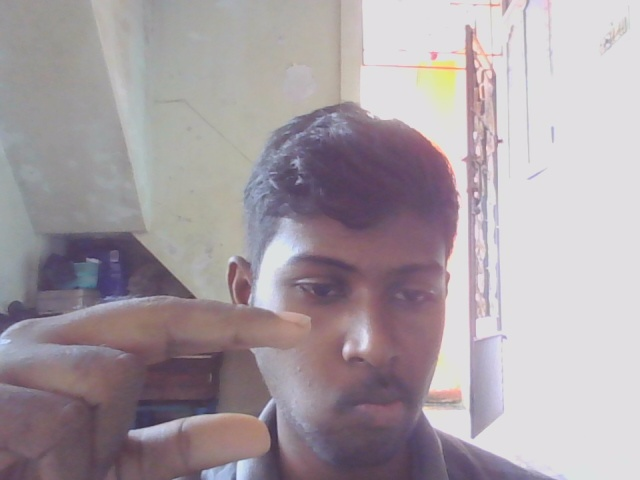Thanks: (18, 293, 320, 480)
